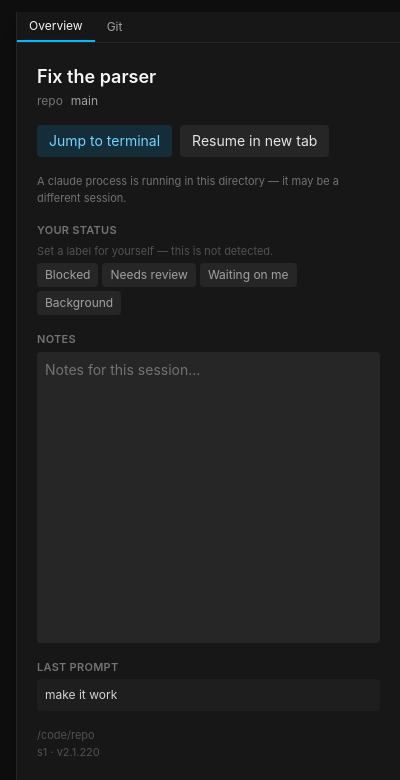
Scenario: DetailSlideOver › wires isLive from a managed session into the Git tab's Remove button
Click the button "Git" at (114, 27), box [95,12,134,42]
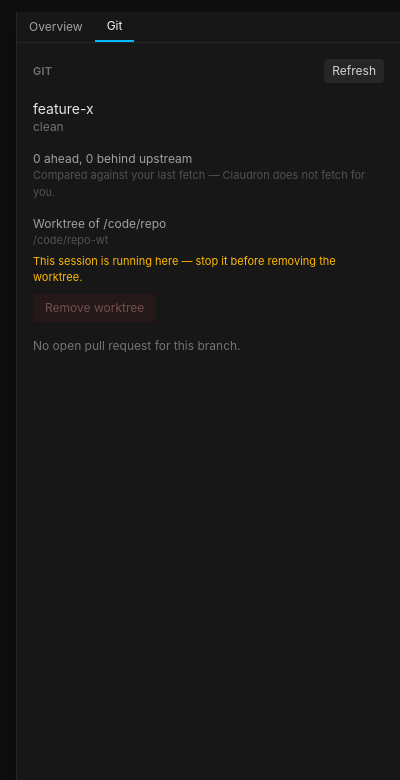
Now the button "Remove worktree" is disabled, box [33,294,156,322]
